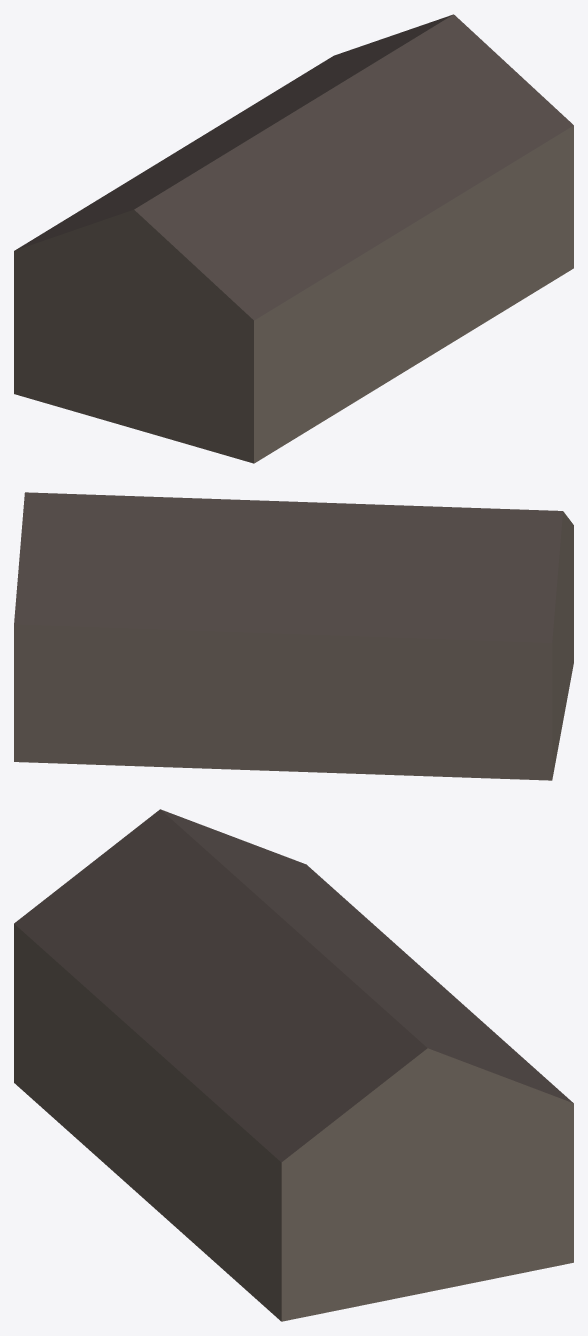
3 views of the same model, one above another, from view 1: azimuth 30°, elevation 25°; view 2: azimuth 150°, elevation 25°; view 3: azimuth 270°, elevation 25° (orthographic). The views are drawn at different scales.
Visible parts, largest first — view 1: HP-w734452858; view 2: HP-w734452858; view 3: HP-w734452858.
Part boxes in pixels (x1,y1,x2,y2): HP-w734452858: (14,14,573,463); HP-w734452858: (14,492,573,780); HP-w734452858: (14,809,573,1321).
Bounding box in the file's own units: 24.09 × 9.2 × 19.13.
